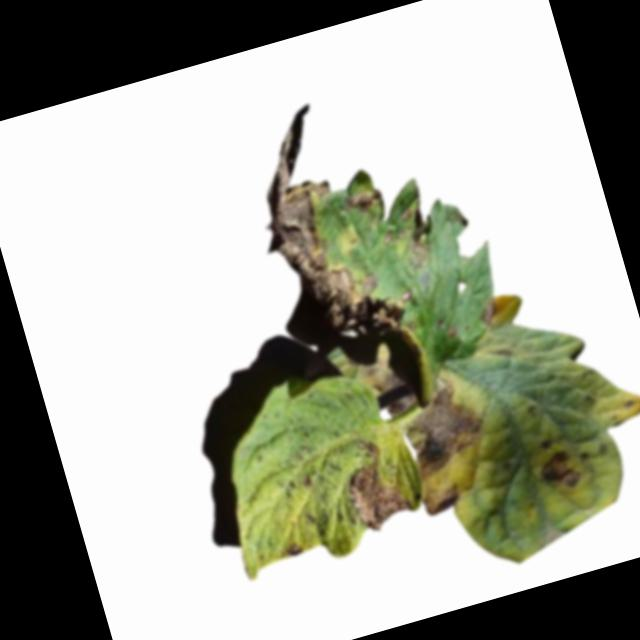Early_blight: (241, 91, 414, 354), (334, 431, 415, 535), (398, 379, 490, 470), (385, 200, 444, 272), (365, 357, 421, 420), (534, 447, 584, 498), (418, 479, 468, 519), (476, 293, 507, 328), (278, 537, 308, 560), (538, 433, 556, 451)
